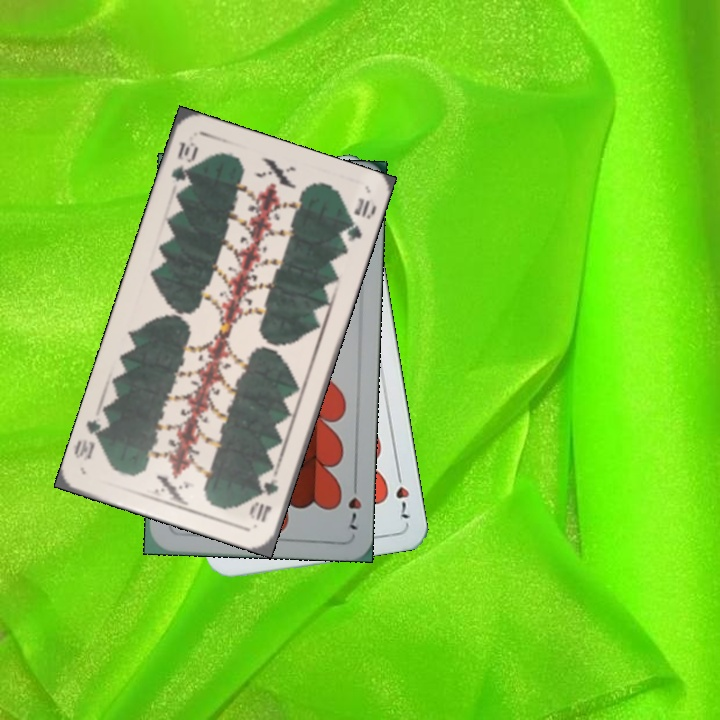G10: (247, 474, 281, 525), (167, 137, 201, 184)
H7: (391, 465, 414, 521), (344, 476, 364, 532)
